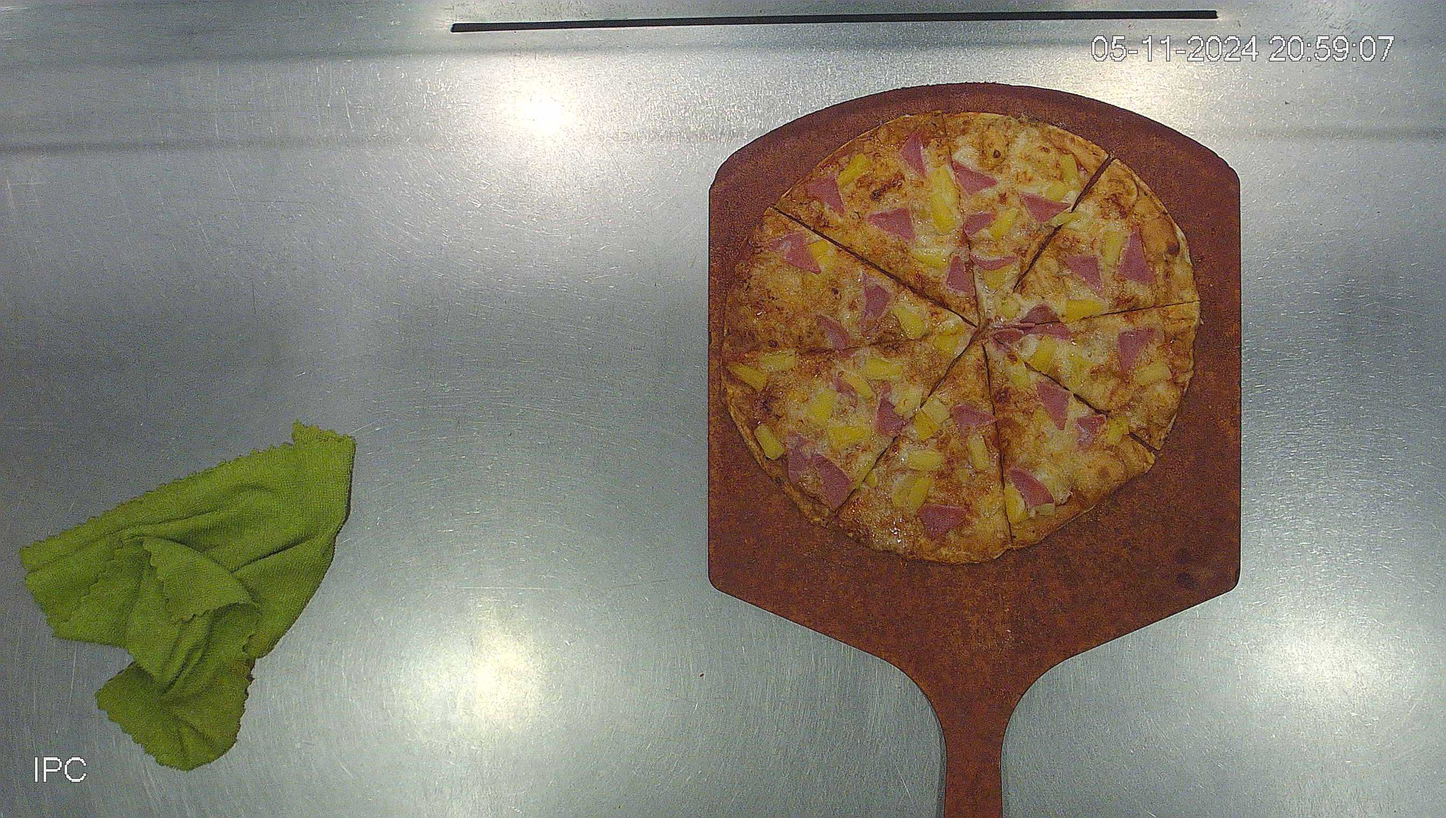manager_choice: (719, 109, 1200, 566)
